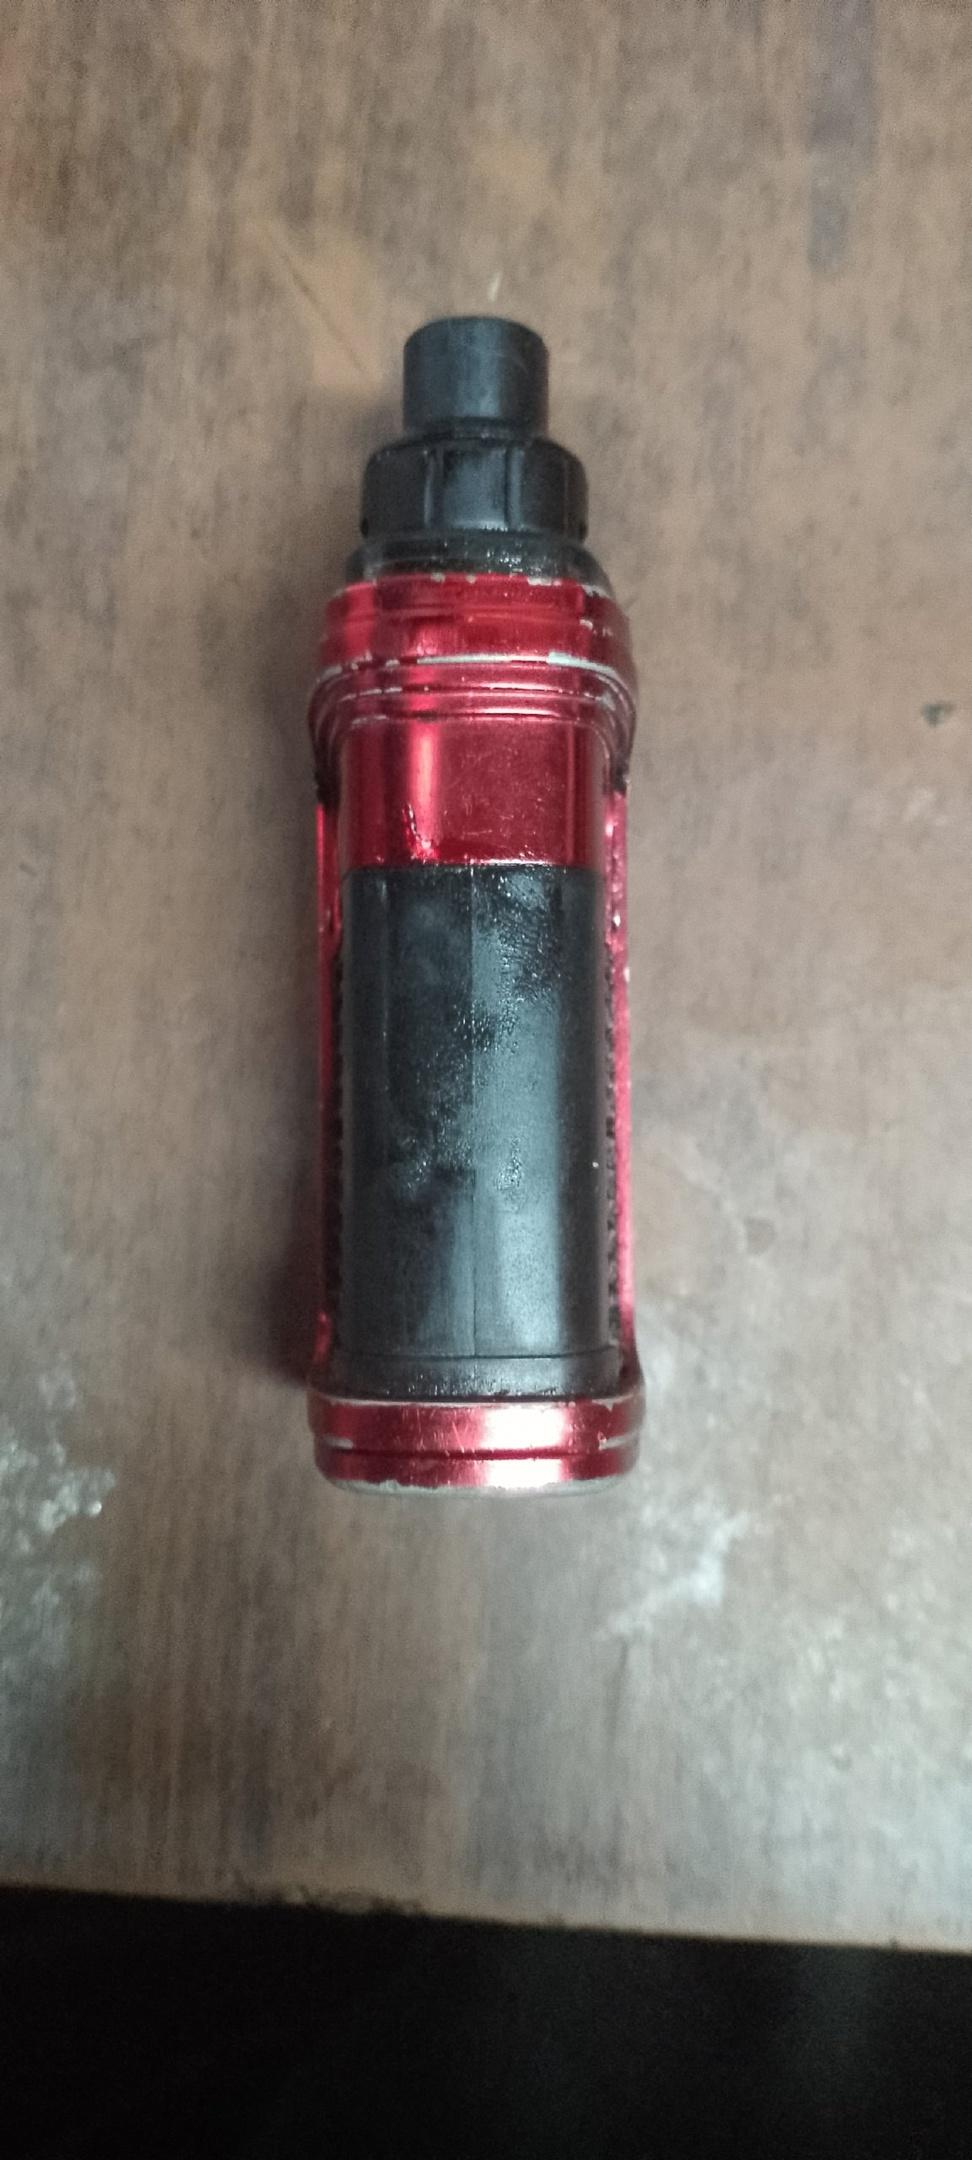Vape: (308, 320, 637, 1488)
